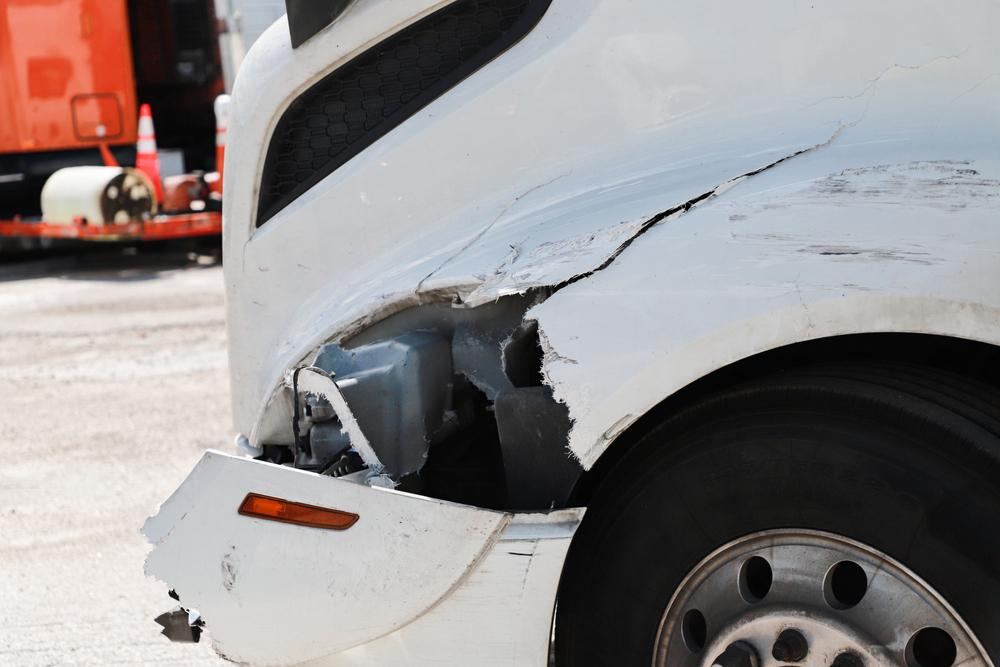crack: (497, 114, 862, 316)
scratch: (733, 155, 1000, 267)
